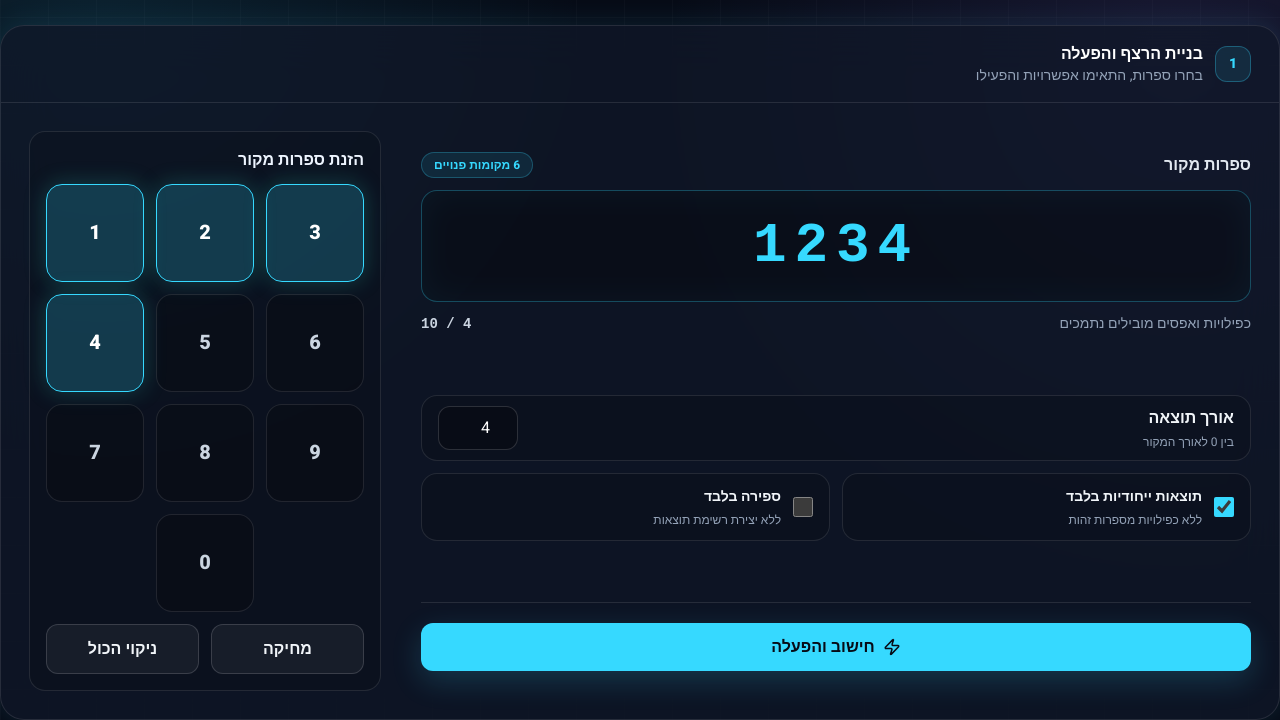
Scenario: PermutationPanel › generates and displays 12 unique results for 1123
(page scrolled)
Click the button with aria-label "ניקוי כל הספרות".
click(122, 649)  # box [46,624,199,674]
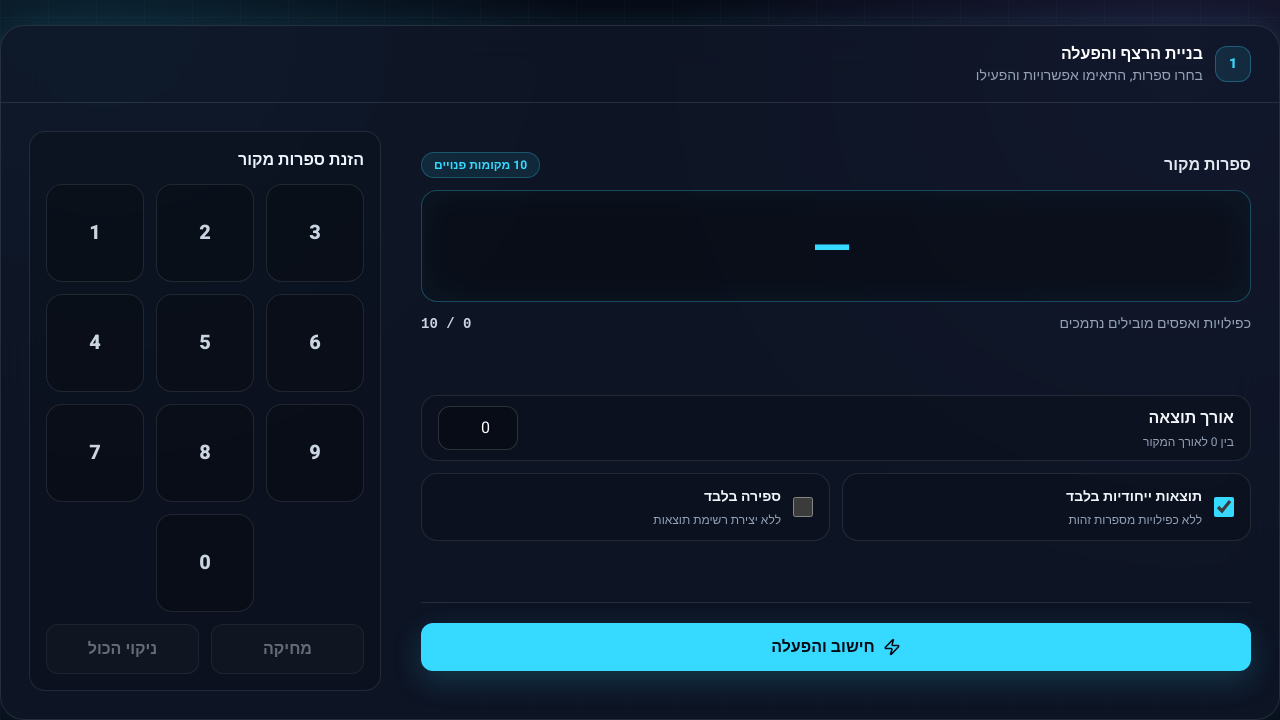
Click the button "1".
click(95, 233)  # box [46,184,144,282]
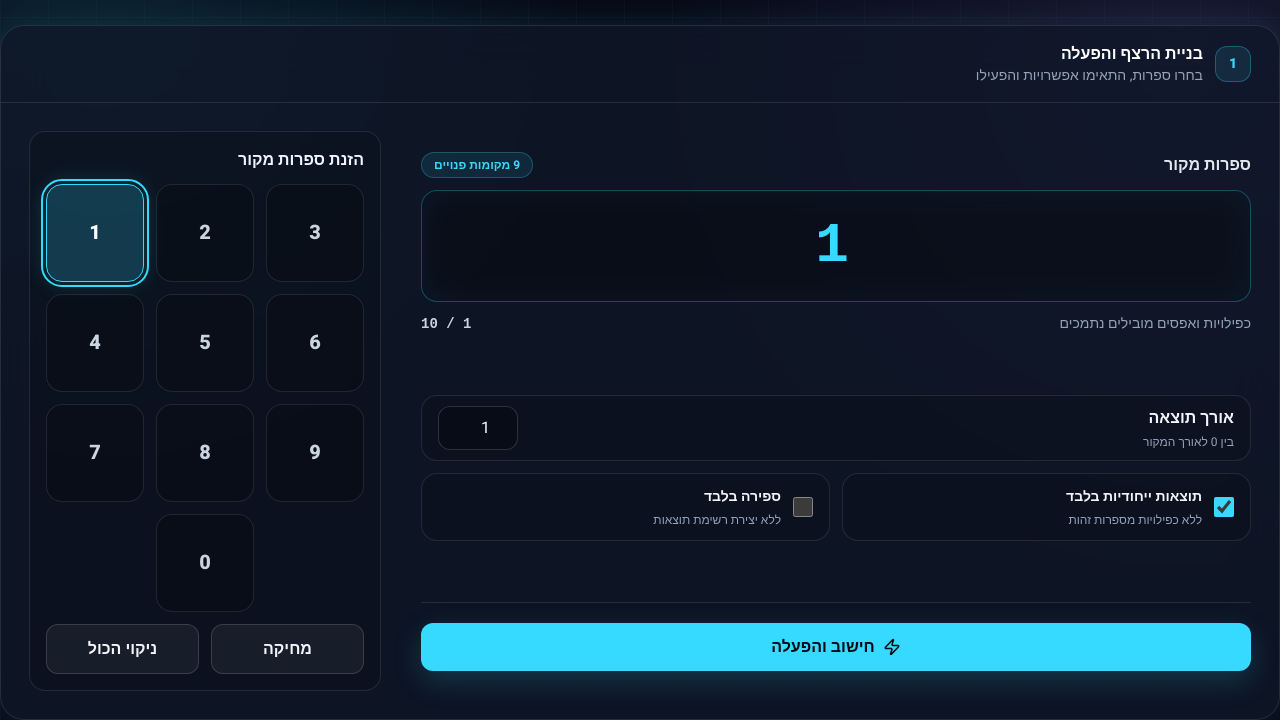
Click the button "1".
click(95, 233)  # box [46,184,144,282]
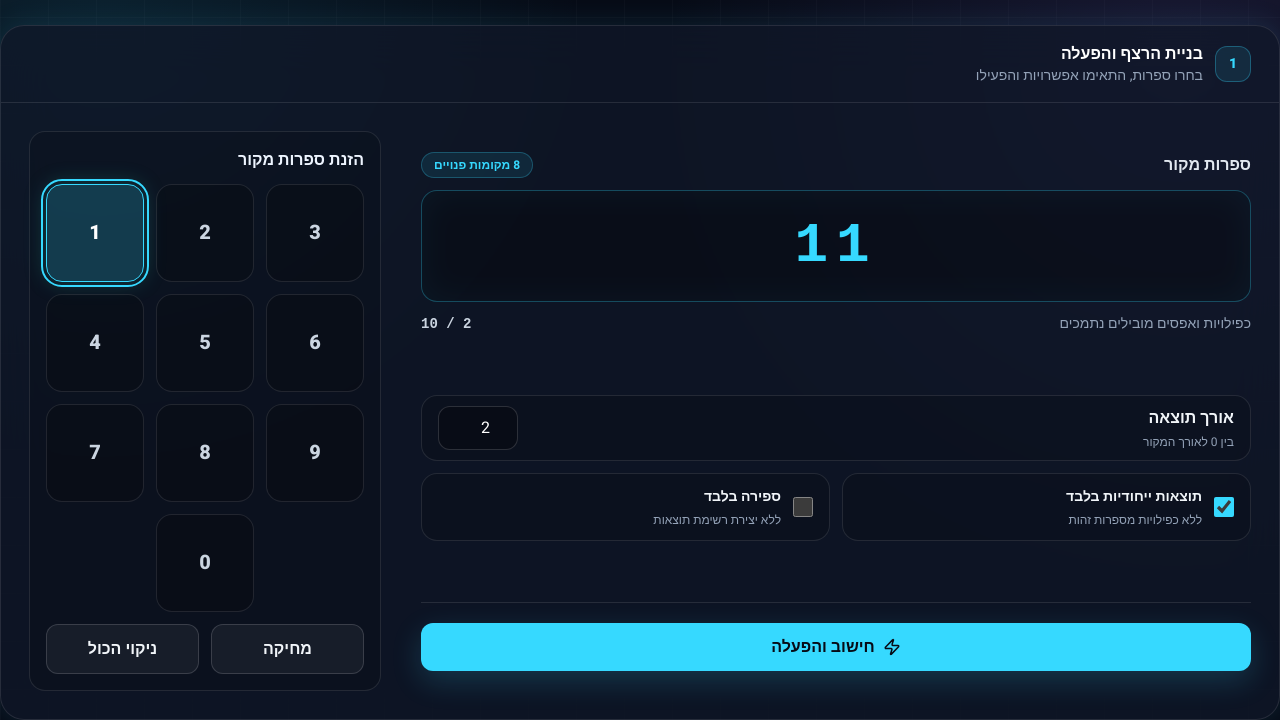
Click the button "2".
click(205, 233)  # box [156,184,254,282]
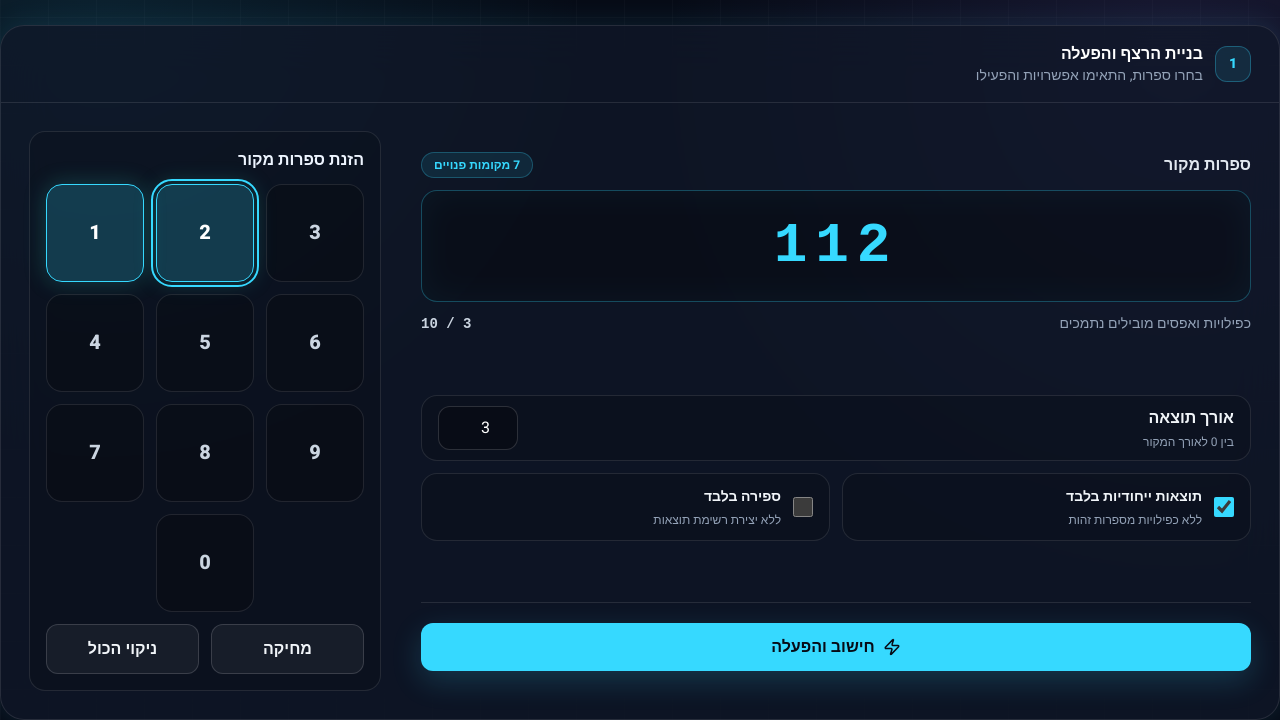
Click the button "3".
click(315, 233)  # box [266,184,364,282]
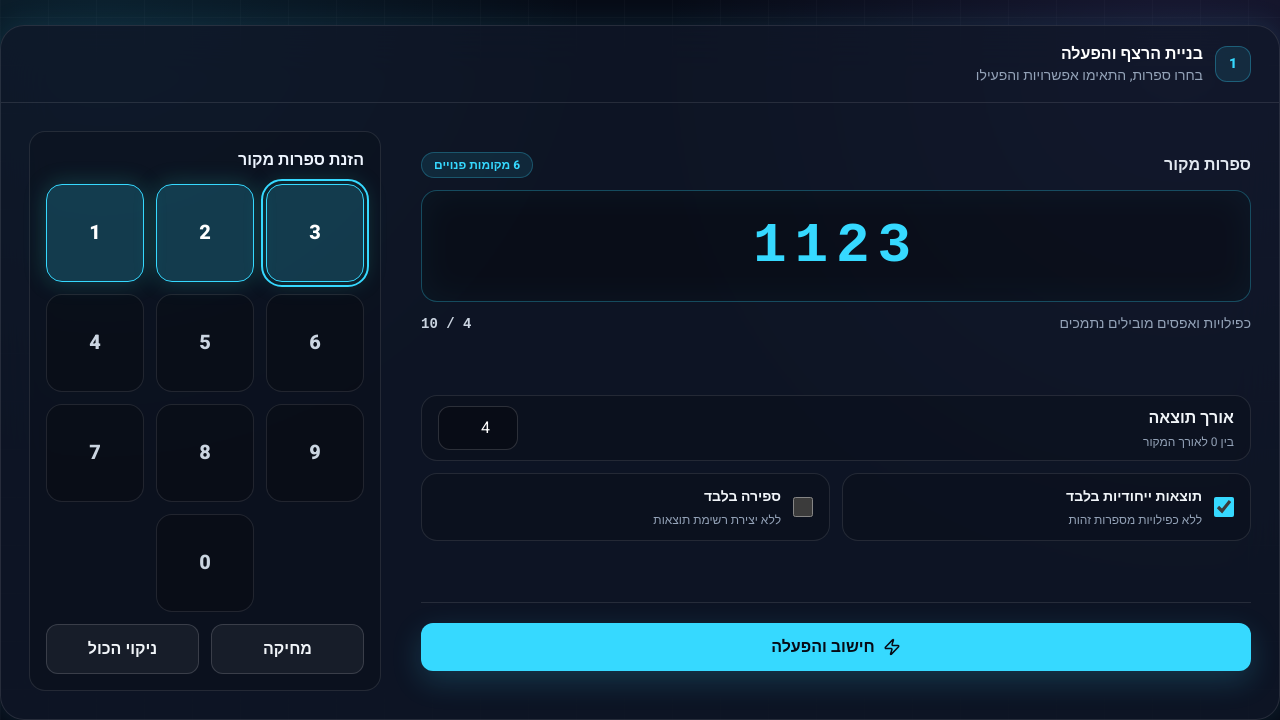
Check: the text named "ספרות מקור" reads "1123", box [753,214,919,278]
Click the button "חישוב והפעלה".
click(836, 646)  # box [421,622,1251,670]
(page scrolled)
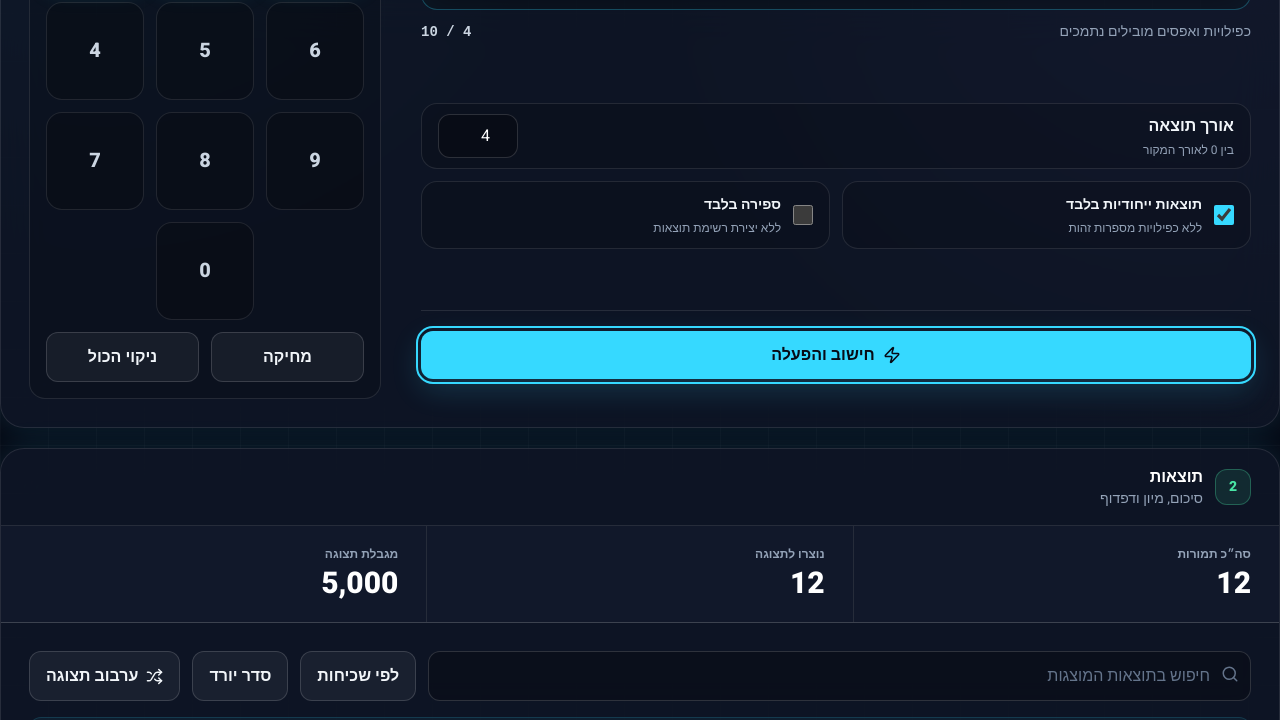
Check: the text "12" is shown 2 times, box [1216,562,1251,606]; [790,562,825,606]
